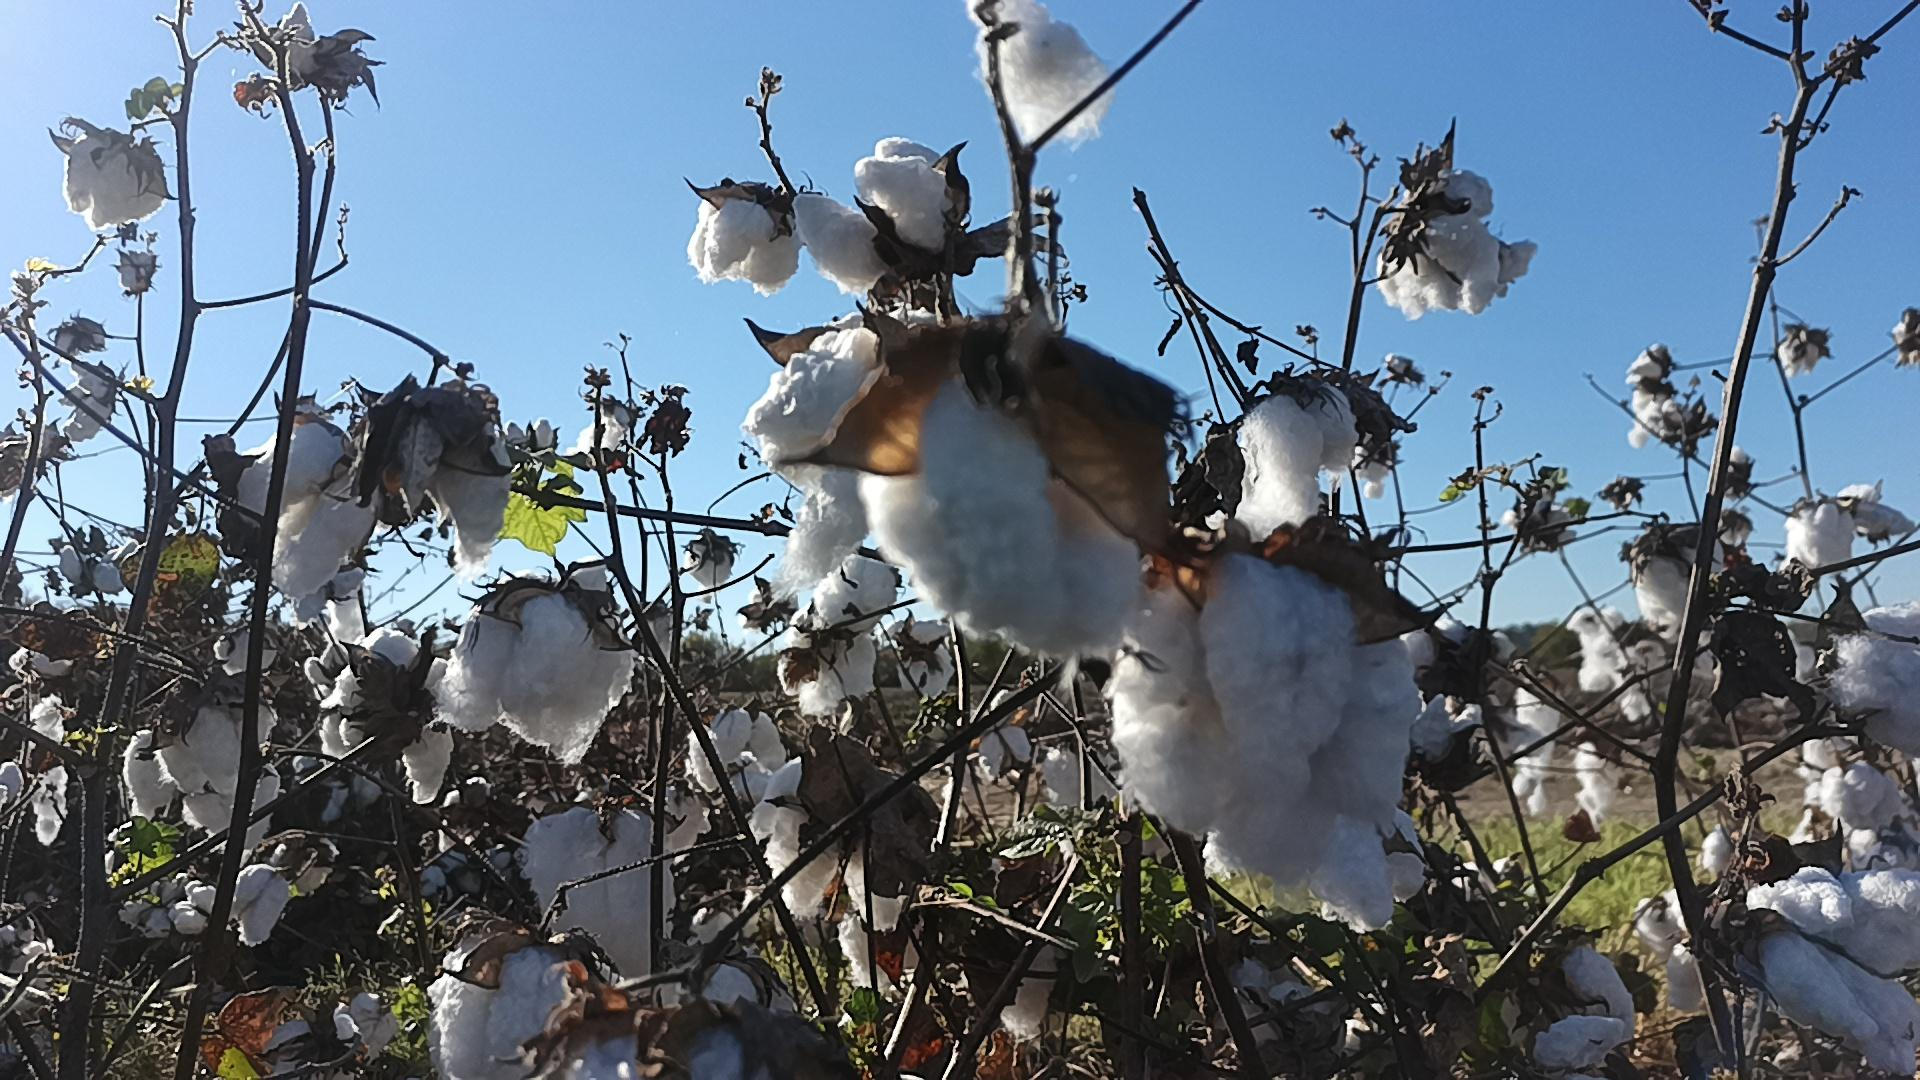cotton_ready: (1108, 543, 1423, 839), (862, 361, 1149, 666), (744, 306, 928, 593), (442, 593, 636, 765), (1727, 913, 1920, 1076), (748, 753, 907, 935), (224, 413, 382, 596), (1197, 816, 1433, 938), (794, 136, 968, 297), (526, 800, 678, 978), (429, 928, 588, 1080), (388, 401, 516, 571), (340, 625, 455, 804), (969, 0, 1113, 141), (1749, 864, 1920, 975), (1238, 385, 1361, 531), (535, 1015, 789, 1080), (1394, 173, 1503, 316), (1526, 943, 1640, 1079), (1828, 605, 1920, 757), (148, 683, 266, 799), (775, 601, 878, 720), (1208, 940, 1316, 1048), (686, 198, 806, 290), (178, 766, 287, 857), (1638, 890, 1724, 1006), (63, 132, 166, 228), (994, 926, 1080, 1039), (688, 703, 786, 793), (1638, 526, 1727, 621), (662, 953, 786, 1021), (1402, 621, 1518, 692), (1403, 691, 1490, 779), (840, 915, 938, 993), (264, 1013, 373, 1080), (1818, 761, 1902, 835), (816, 555, 901, 626), (1785, 505, 1863, 575), (125, 725, 179, 824), (278, 8, 323, 78)
